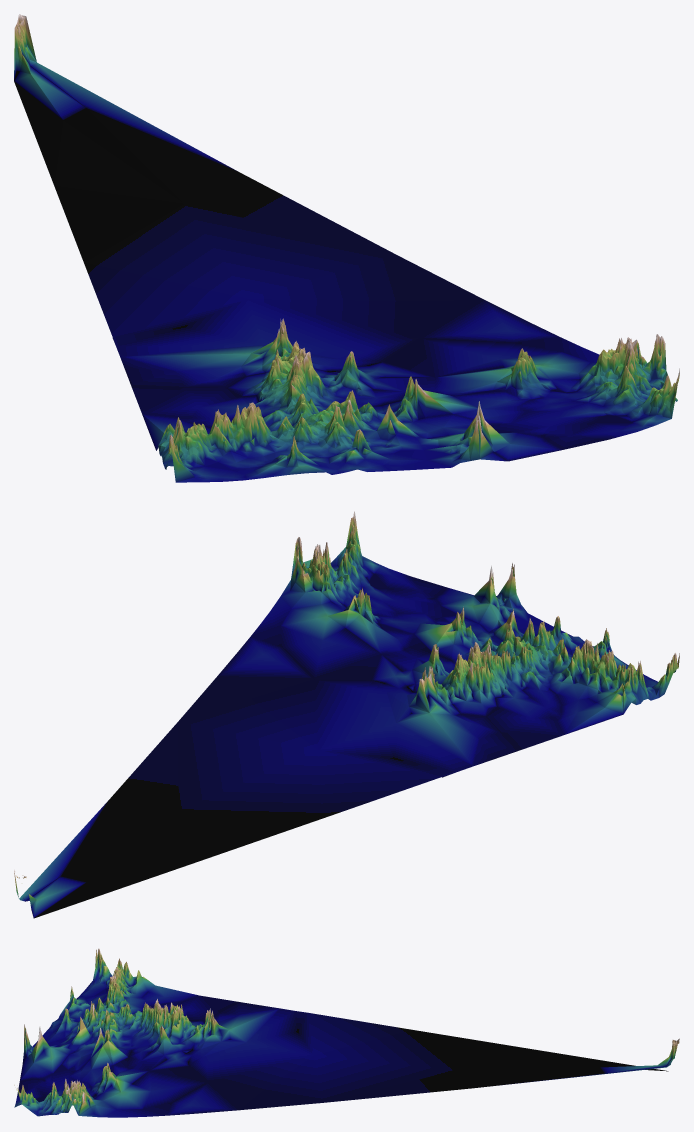
Rendered from umap5_island.gltf.
3 renders of one model, top to bottom at view 1: azimuth 30°, elevation 25°; view 2: azimuth 150°, elevation 25°; view 3: azimuth 270°, elevation 25°, orthographic. The views are drawn at different scales.
Visible parts, largest first — view 1: Renderer Node; view 2: Renderer Node; view 3: Renderer Node.
Part boxes in pixels (<box>): Renderer Node: <box>14,14,679,482</box>; Renderer Node: <box>14,511,679,918</box>; Renderer Node: <box>14,948,679,1117</box>.
Bounding box in the file's own units: 0.5152 × 0.0615 × 1.
1 material, 1 textured.
